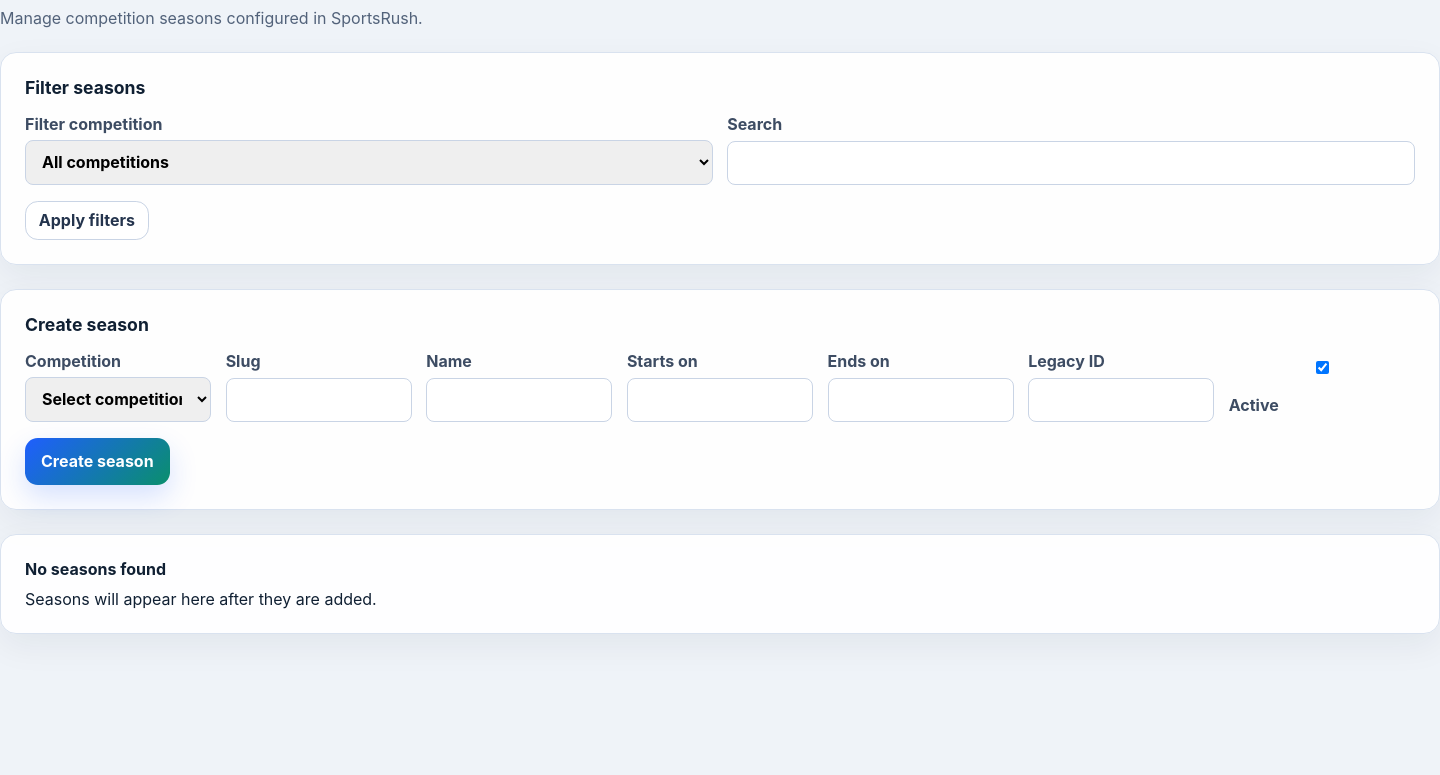
Scenario: SeasonsPage › creates a season and refreshes the list
This screenshot has width=1440, height=775.
Expected: the text "No seasons found" is shown, x1=25 y1=559 x2=166 y2=579
Select "Super League" in the dropdown labelled "Competition": (118, 399) x1=25 y1=377 x2=211 y2=422
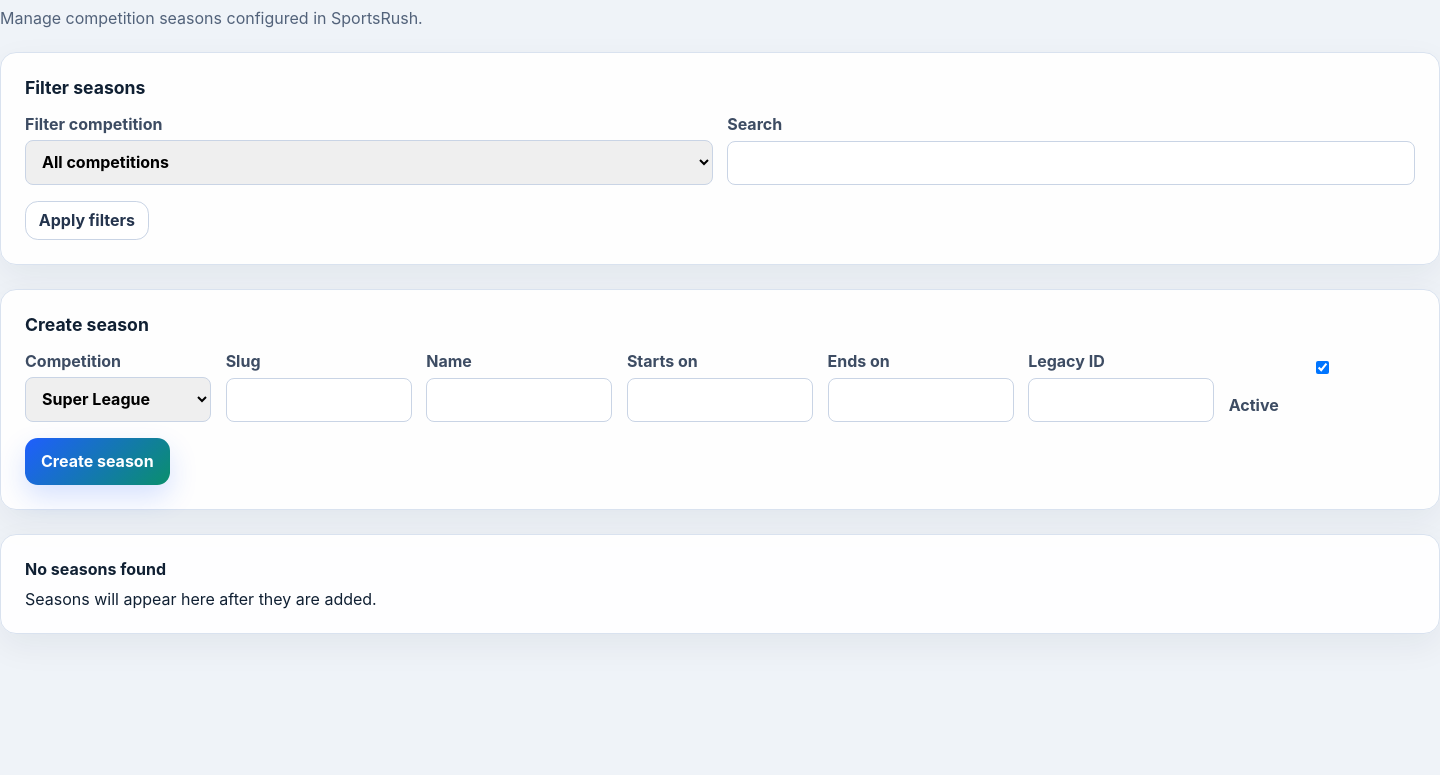
In the field labelled "Slug": (319, 400) x1=226 y1=378 x2=412 y2=422, type "2026"
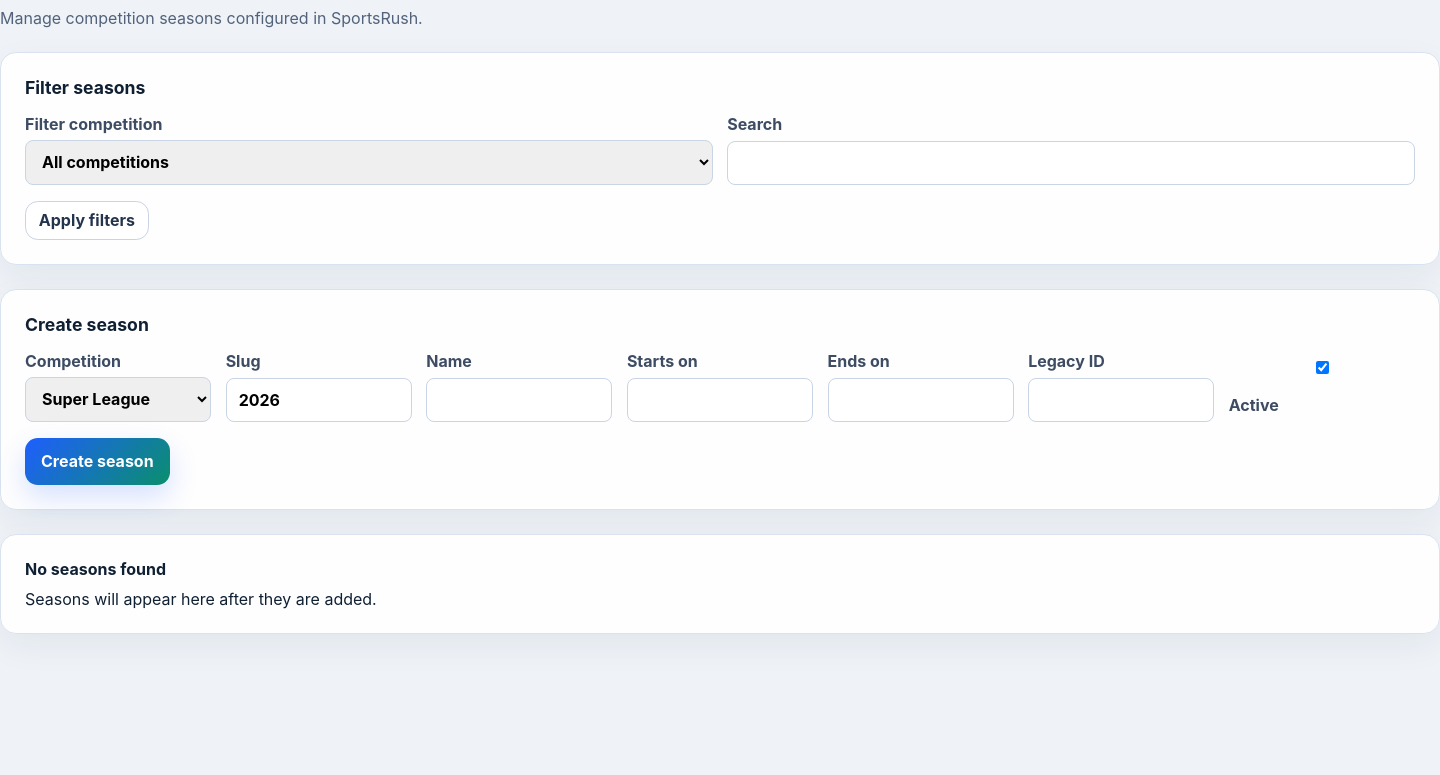
In the field labelled "Name": (519, 400) x1=426 y1=378 x2=612 y2=422, type "2026 Season"
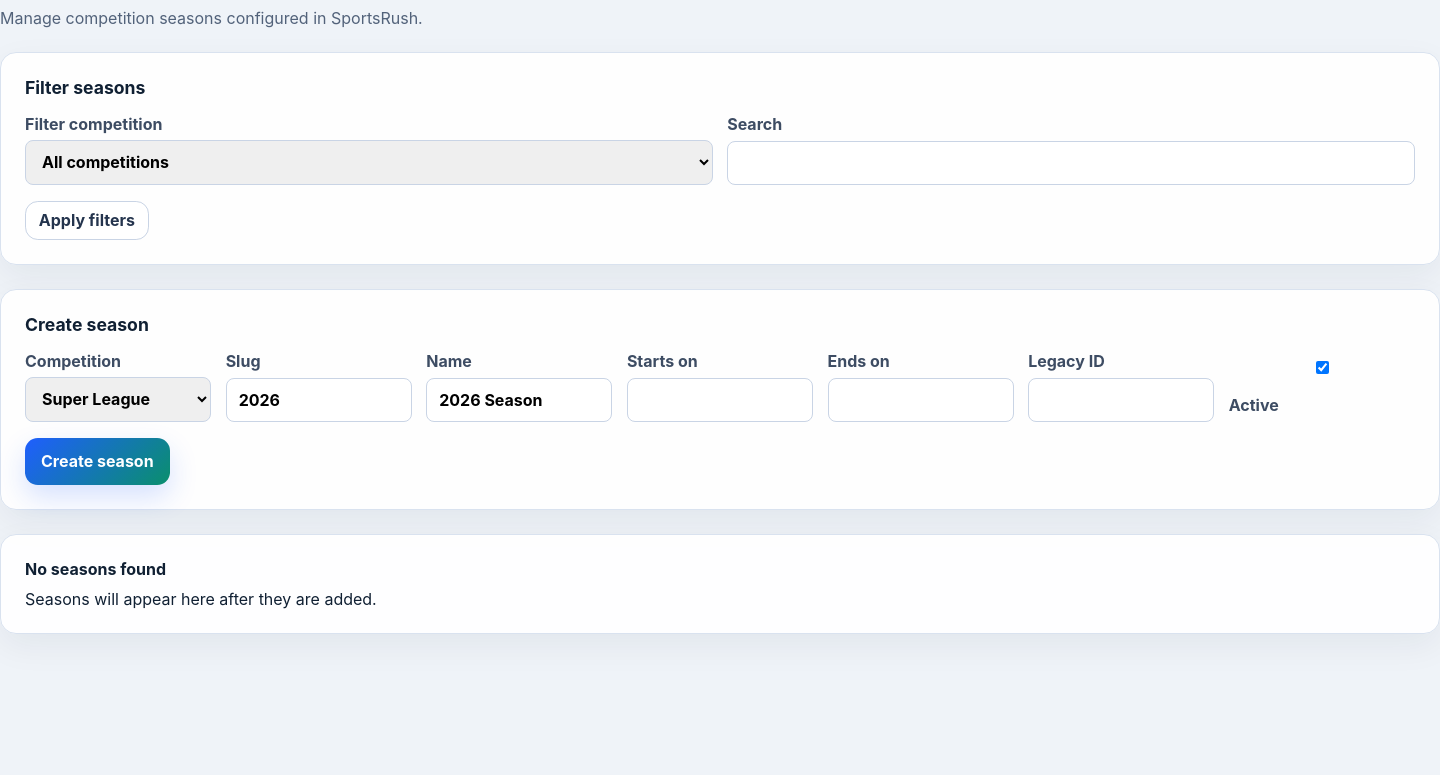
In the field labelled "Starts on": (720, 400) x1=627 y1=378 x2=813 y2=422, type "2026-01-01"
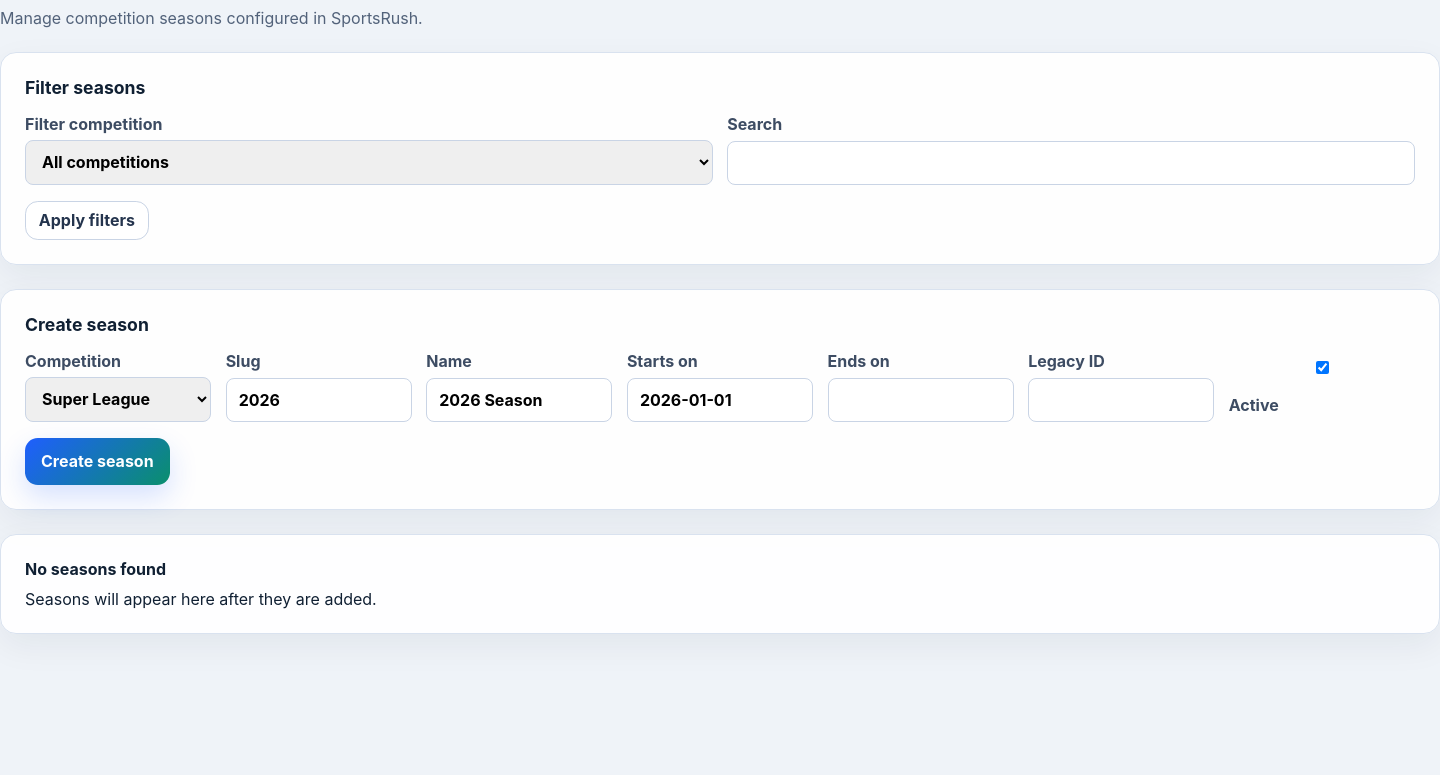
In the field labelled "Ends on": (921, 400) x1=828 y1=378 x2=1014 y2=422, type "2026-12-31"
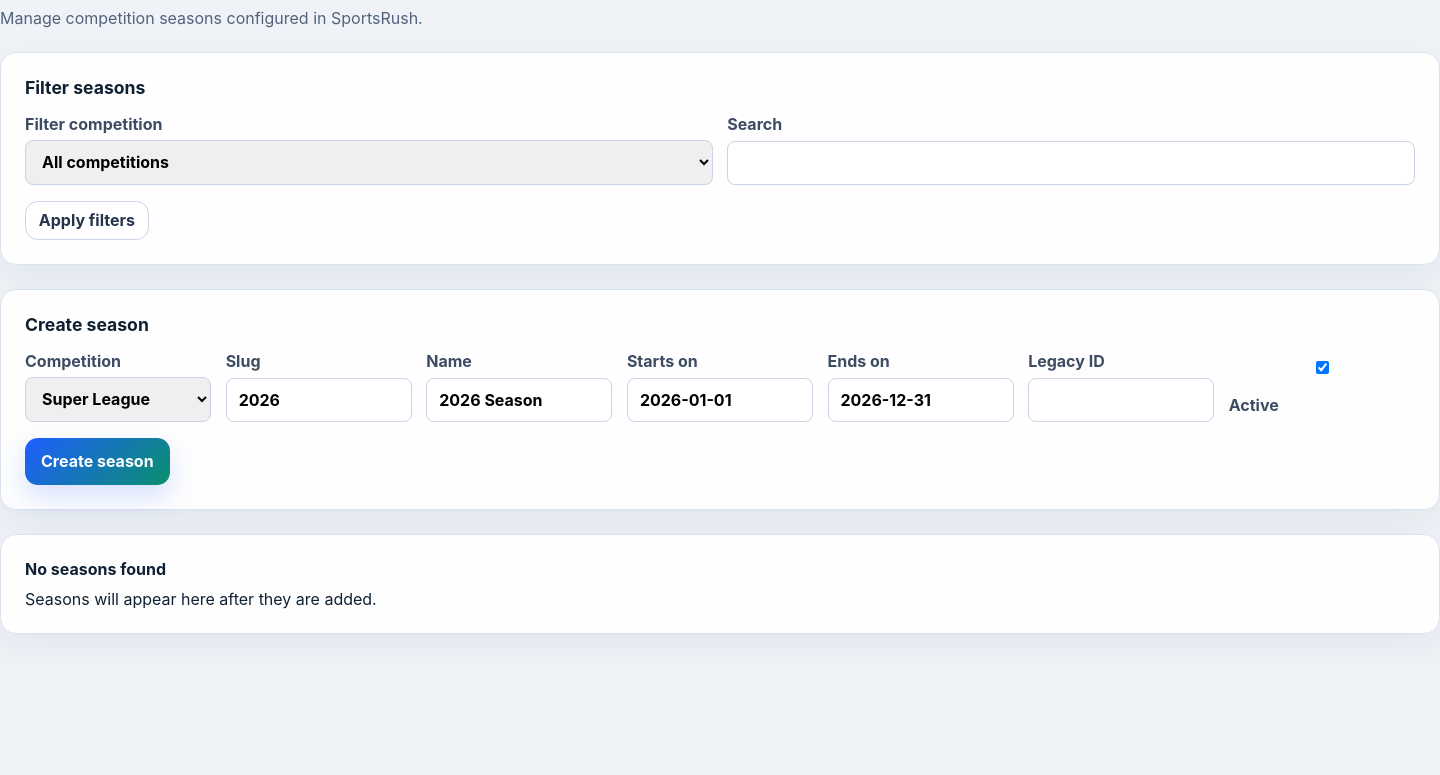
Click the button "Create season": click(97, 461) x1=25 y1=438 x2=170 y2=485
(page scrolled)
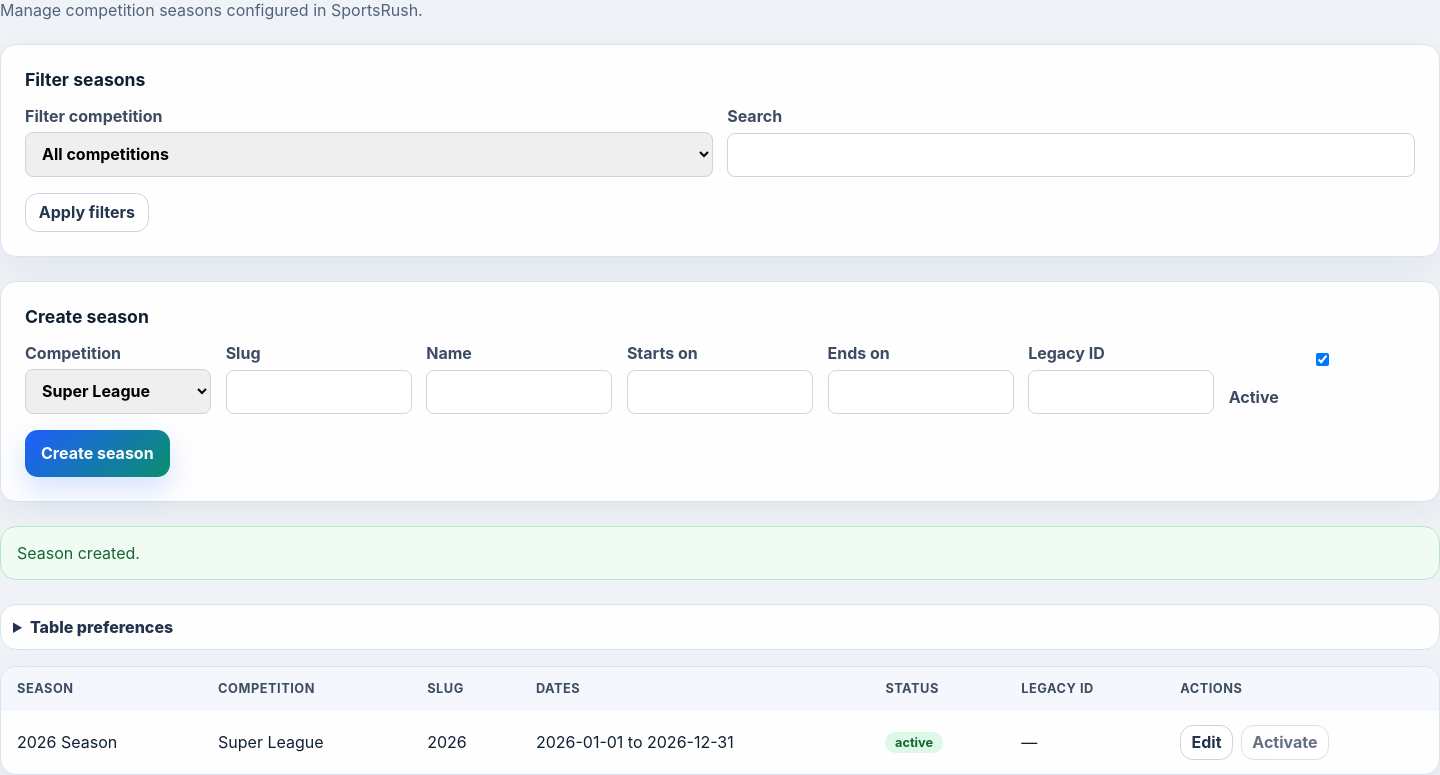
Now the text "Season created." is shown, box x1=0 y1=526 x2=1439 y2=580
Now the cell "2026 Season" is shown, box x1=1 y1=710 x2=202 y2=774
